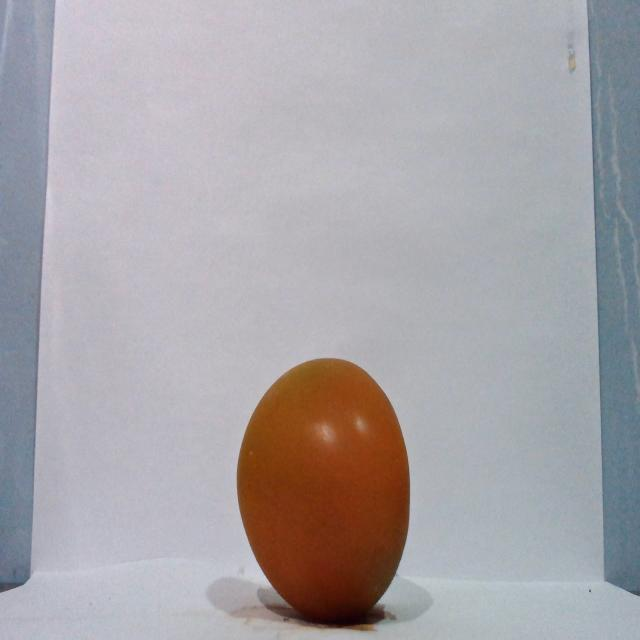Red: (234, 356, 411, 623)
